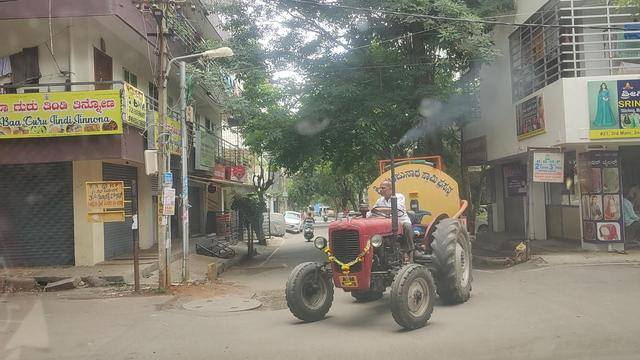HMV: (300, 150, 479, 343)
RoadDamages: (187, 284, 306, 314)
